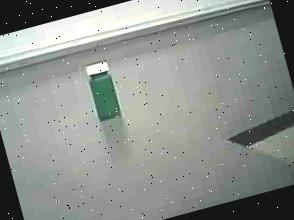Bottle C: (79, 51, 134, 132)
